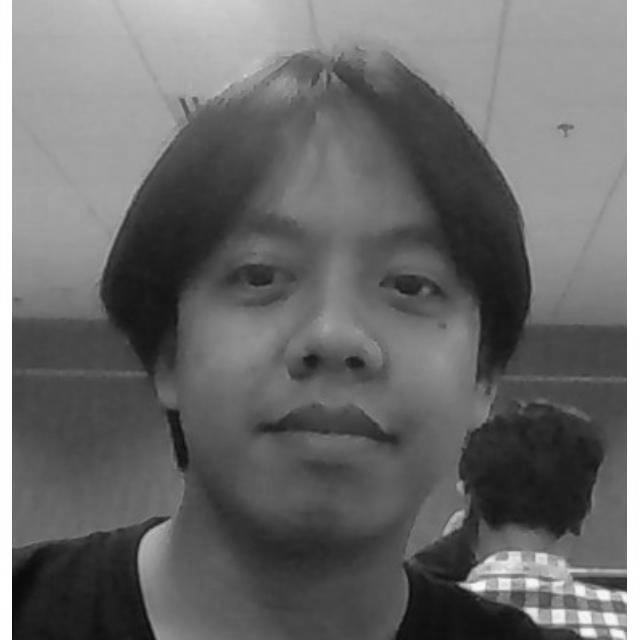real: (179, 116, 470, 547)
